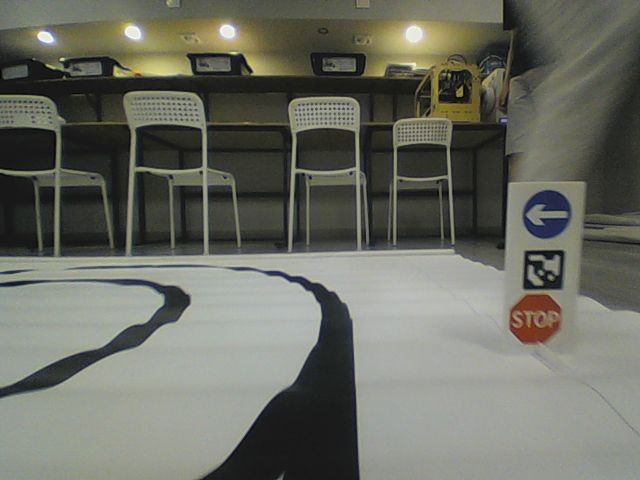Stop: (506, 292, 565, 346)
